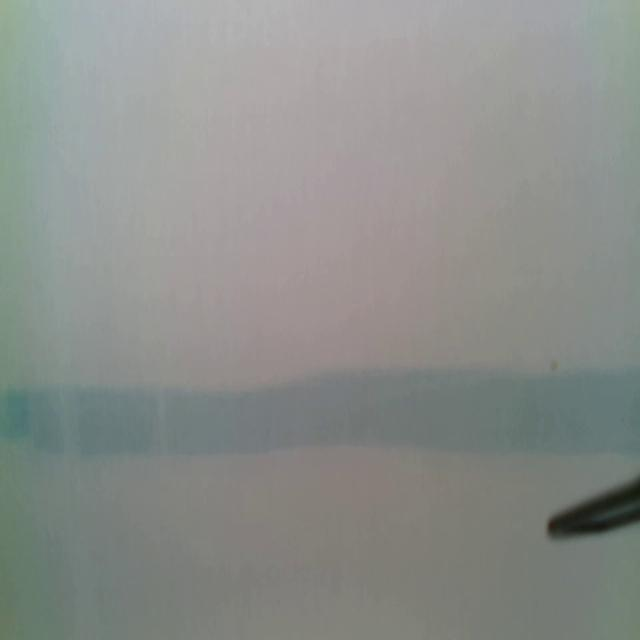color bleeding: (0, 362, 640, 472)
